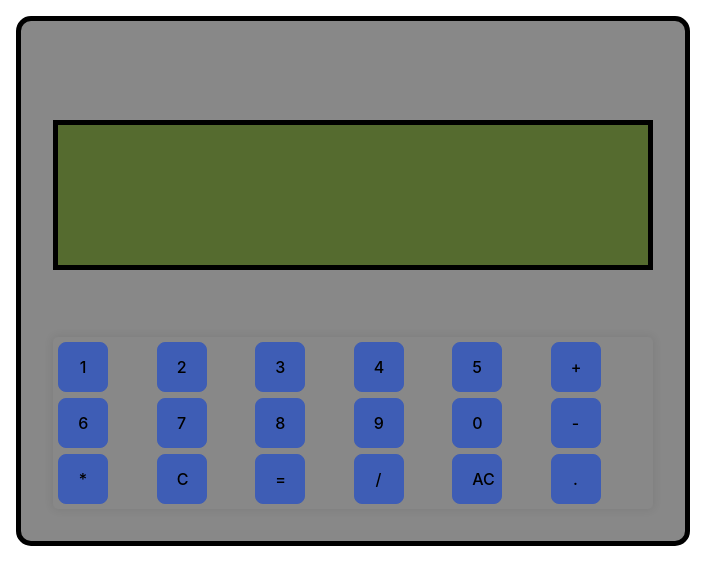
Test: Calculator performs substraction
Click the button "1".
click(83, 367)  # box [58, 342, 108, 392]
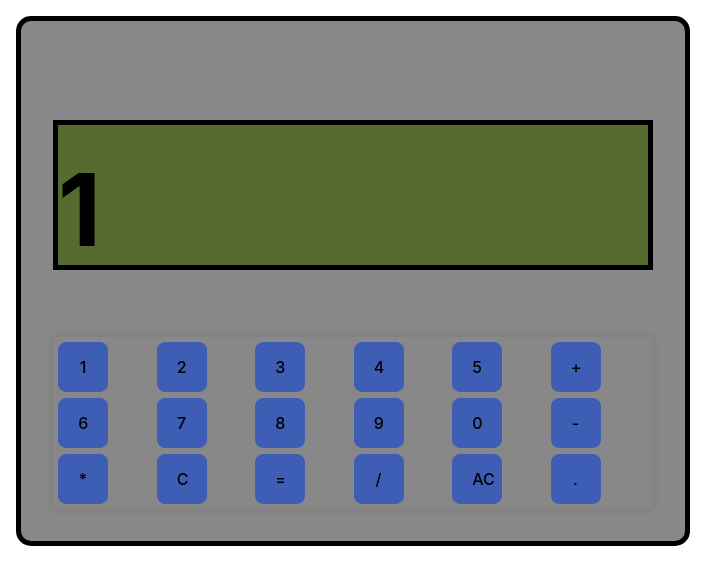
Click the button "2".
click(182, 367)  # box [156, 342, 206, 392]
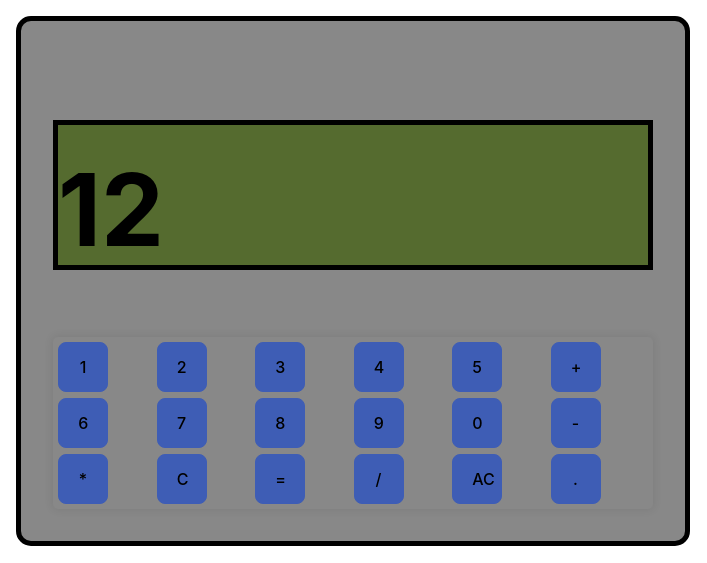
Click the button "-".
click(576, 423)  # box [550, 398, 600, 448]
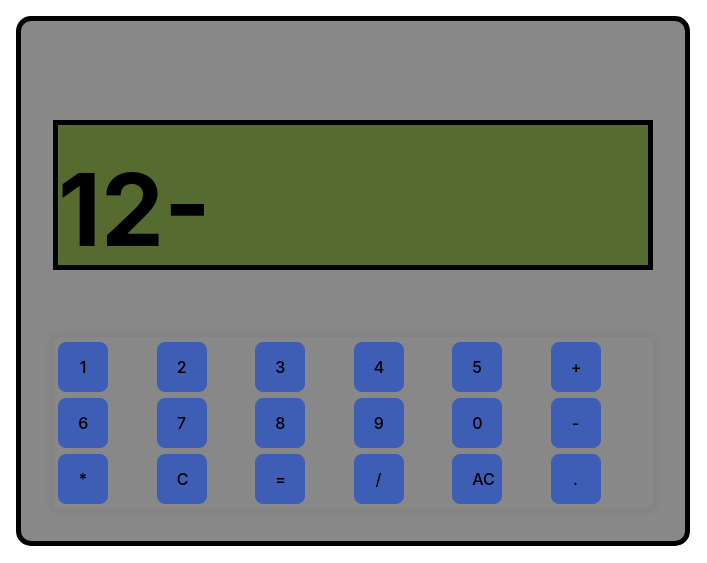
Click the button "3".
click(280, 367)  # box [255, 342, 305, 392]
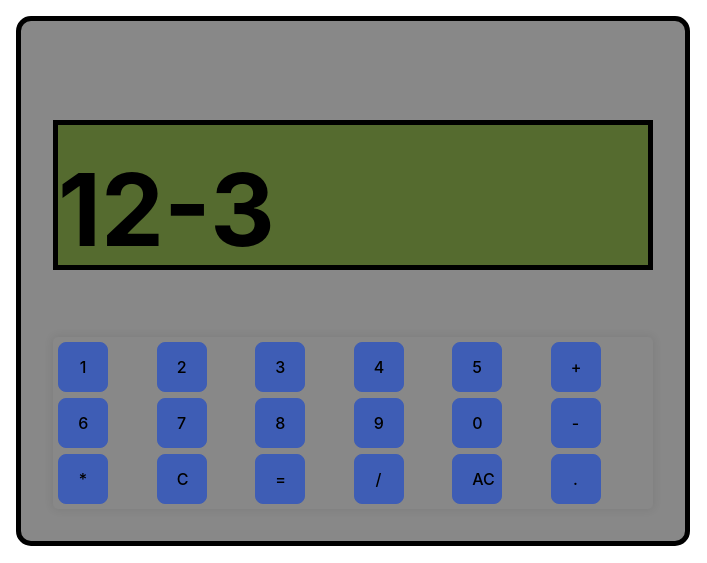
Click the button "=".
click(280, 479)  # box [255, 454, 305, 504]
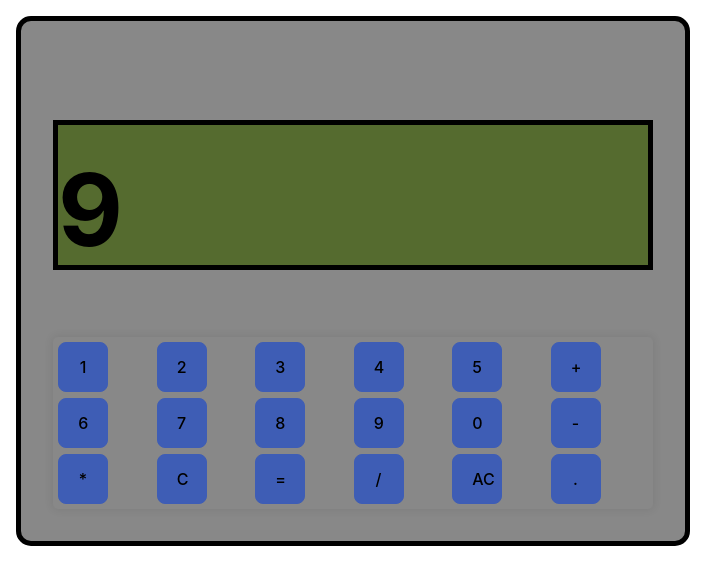
Check: the heading "9" is shown, box [53, 120, 653, 270]
